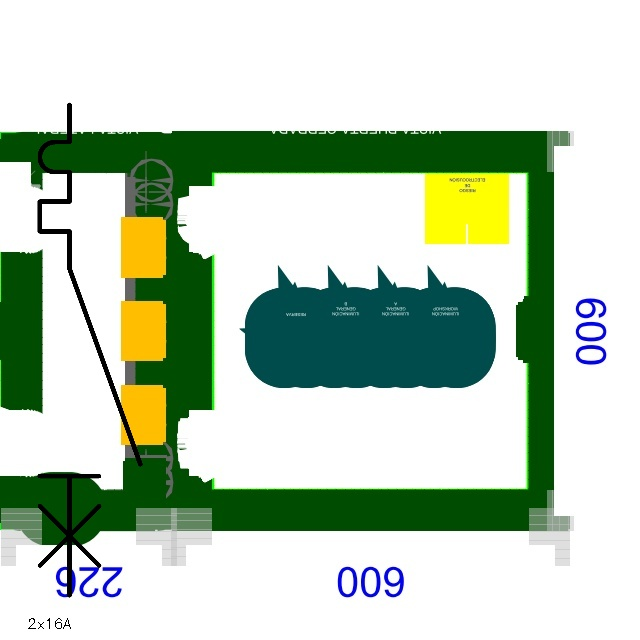interruptor_termomagnetico: (27, 92, 153, 607)
